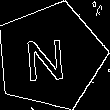N_N: (28, 30, 73, 83)
